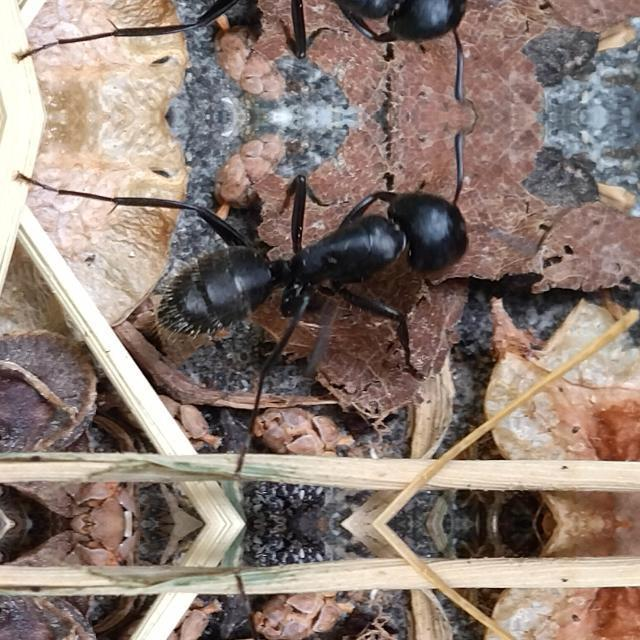Camponotus: (149, 121, 509, 393), (149, 0, 509, 110)
